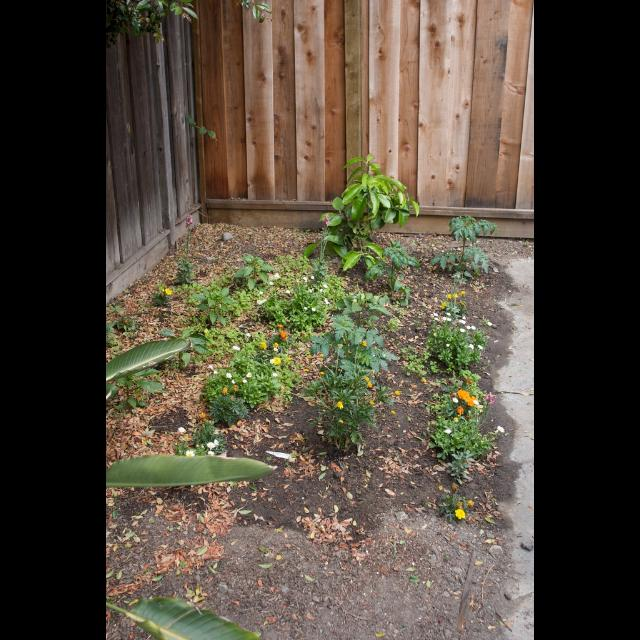Flower: (456, 387, 469, 403), (454, 508, 466, 520)
